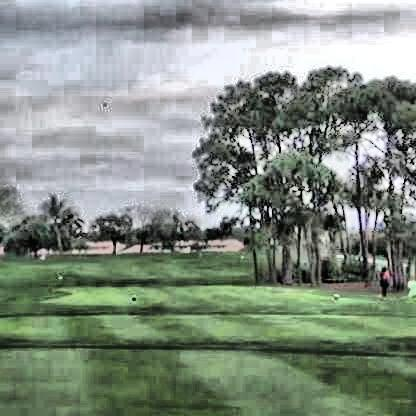golfball: (98, 99, 105, 105)
